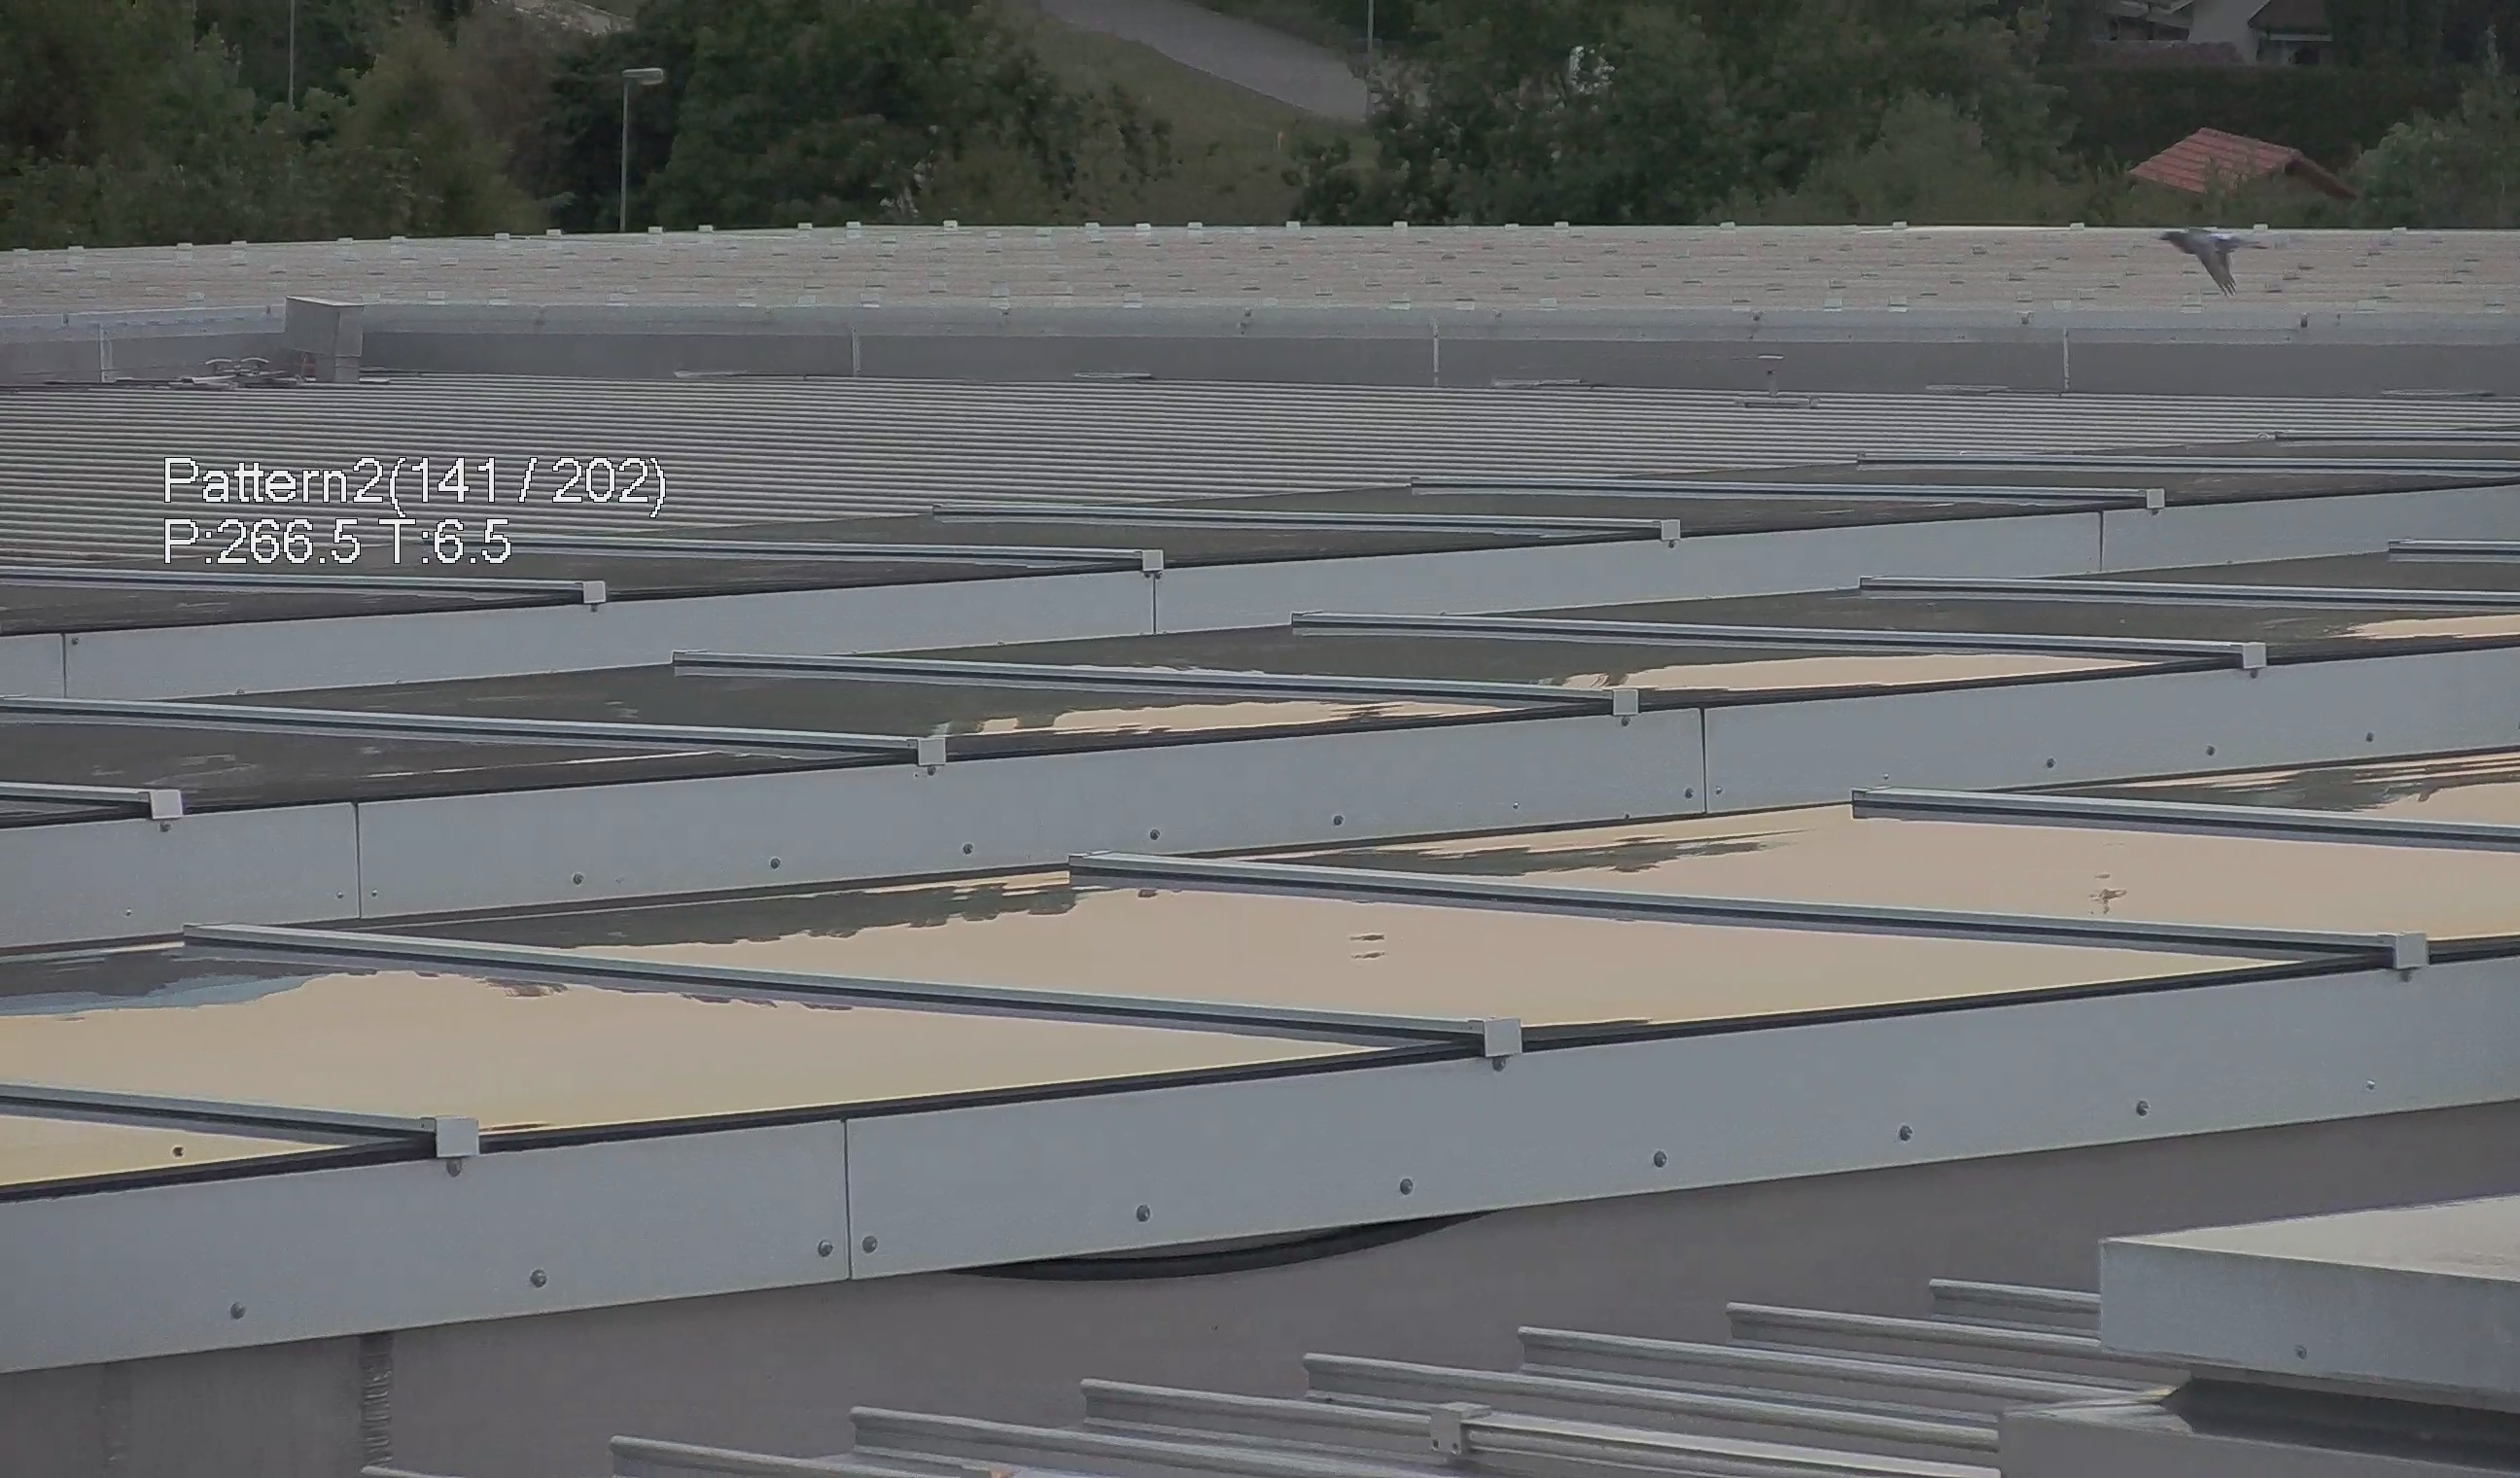Pigeon: (2167, 211, 2272, 290)
